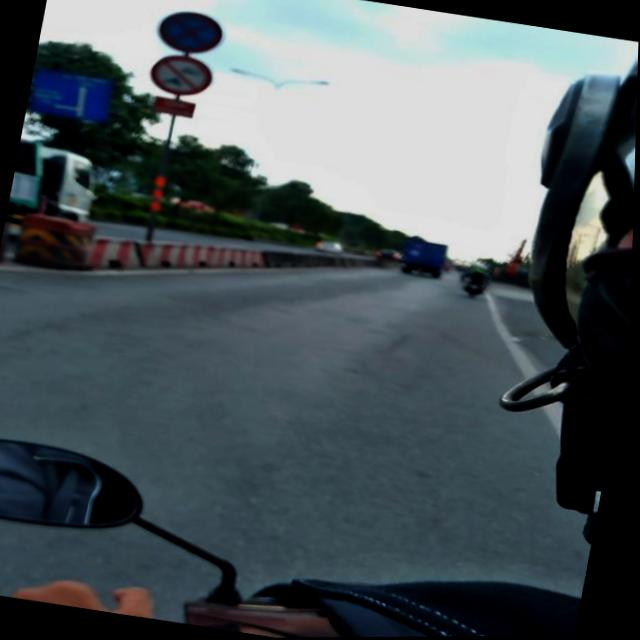Cam dung xe va do xe: (155, 8, 227, 58)
